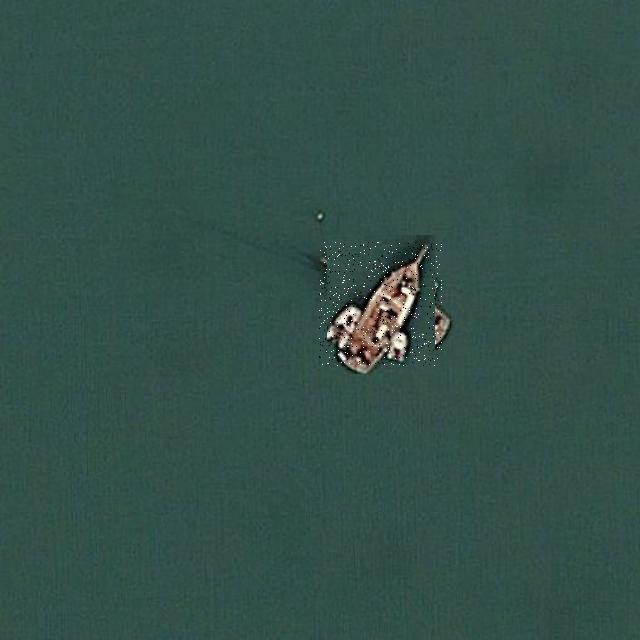boat: (319, 242, 442, 366)
